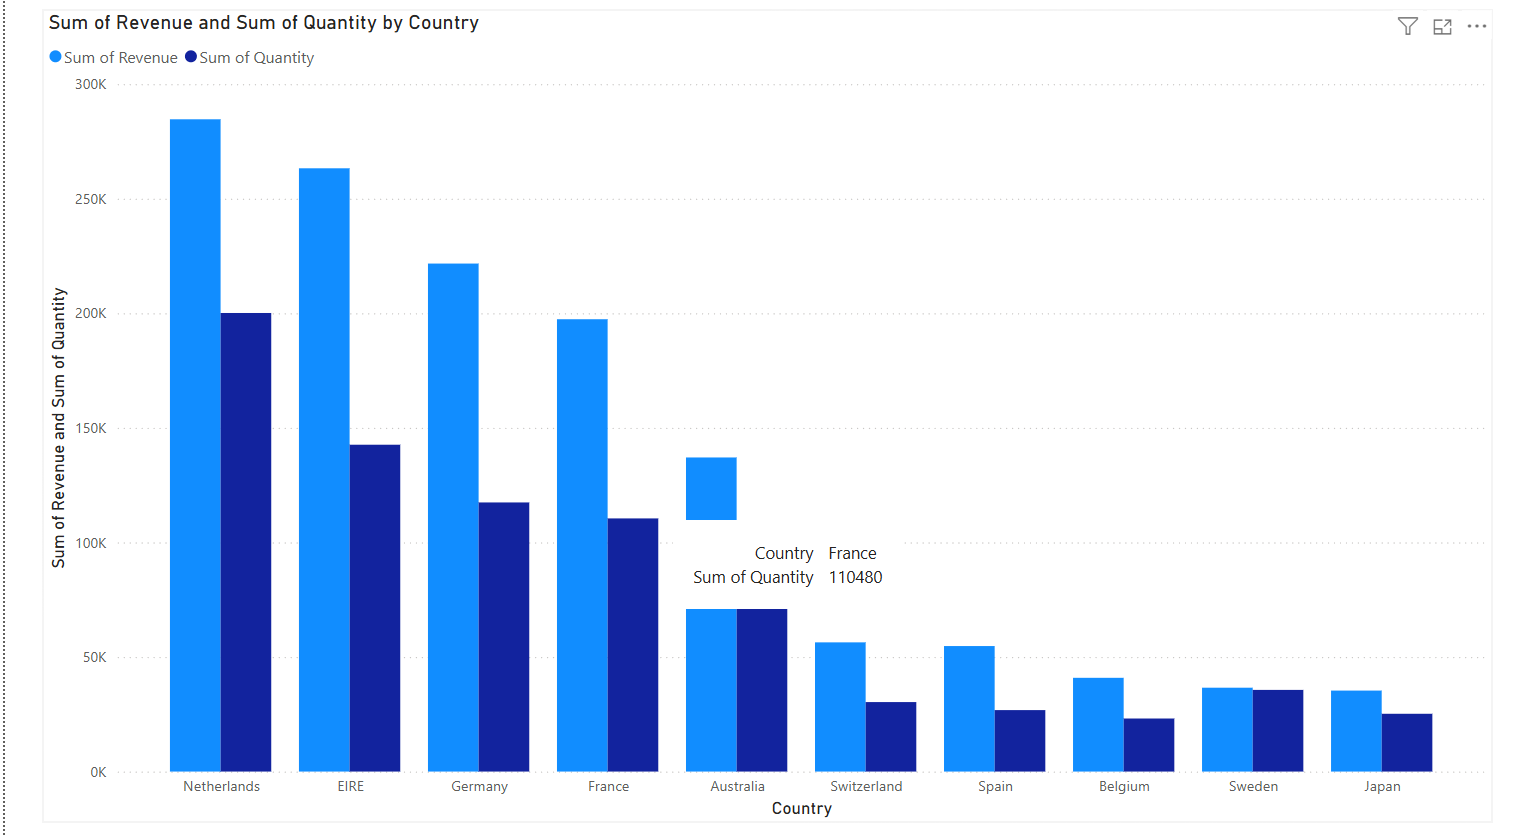

What the dashboard file says about the page in this screenshot:
{"tool":"powerbi","page":{"name":"Question 2","canvas":[1280,720],"ordinal":1},"visuals":[{"type":"clusteredColumnChart","fields":{"Y":["Sum(Online Retail.Revenue)","Sum(Online Retail.Quantity)"],"Category":["Online Retail.Country"]},"box":[31.4,18.6,1215.7,682.9],"z":0}]}

Visuals, with their boxes in screenshot pixels (x1, y1, x2, y2), scaled from the page's 1280x720 canvas onto the 1516x835 screenshot:
clusteredColumnChart - Sum(Online Retail.Revenue) x Sum(Online Retail.Quantity): 37 22 1477 814
